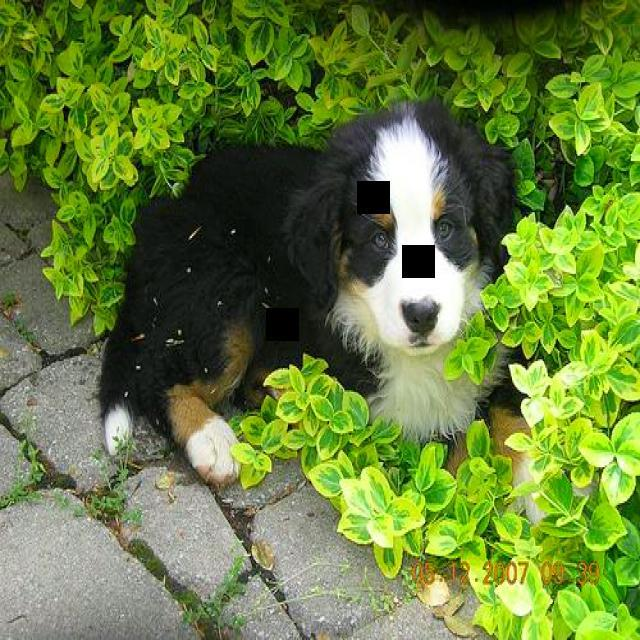puppy-dog: (87, 90, 525, 483)
